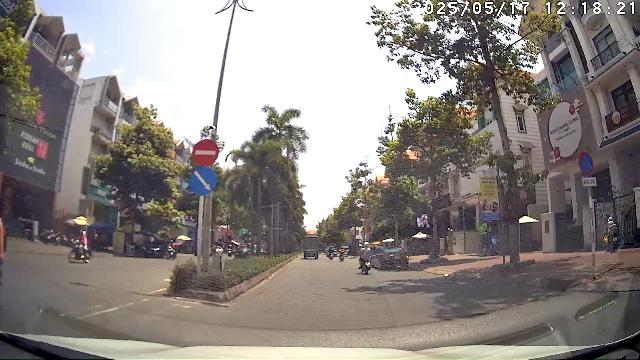102-cam-di-nguoc-chieu: (192, 138, 220, 166)
131a-cam-do-xe: (578, 152, 594, 176)
302a-huong-phai-di-vong-chuong-ngai-vat-1: (189, 167, 217, 195)
